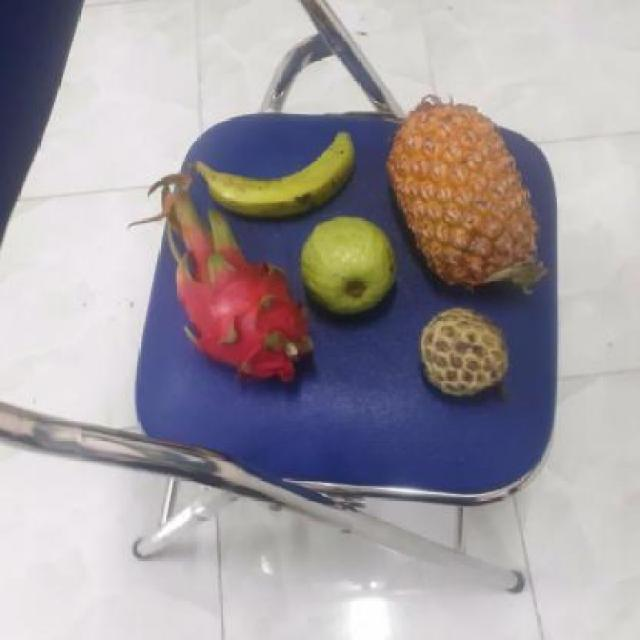banana: (198, 123, 358, 220)
dragon fruit: (175, 198, 316, 378)
guava: (299, 215, 403, 316)
pineapple: (392, 101, 550, 294)
sugar apple: (420, 307, 518, 398)
